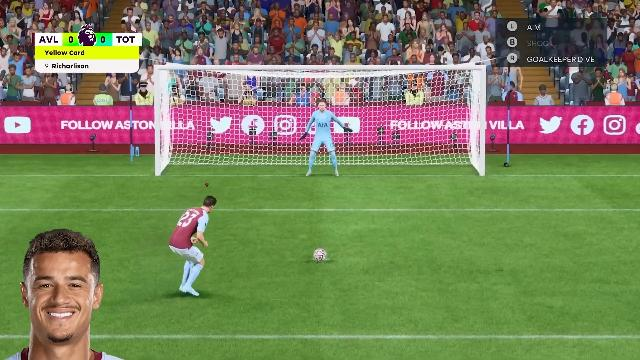football: (314, 249, 326, 261)
goal-bottom-left: (166, 132, 270, 180)
goal-bottom-right: (366, 130, 472, 178)
goal-middle-down: (272, 131, 362, 179)
goal-middle-up: (273, 75, 363, 129)
goal-top-left: (167, 75, 269, 129)
goal-top-right: (365, 76, 473, 128)
goalkeeper: (298, 108, 338, 180)
player: (170, 197, 230, 301)
